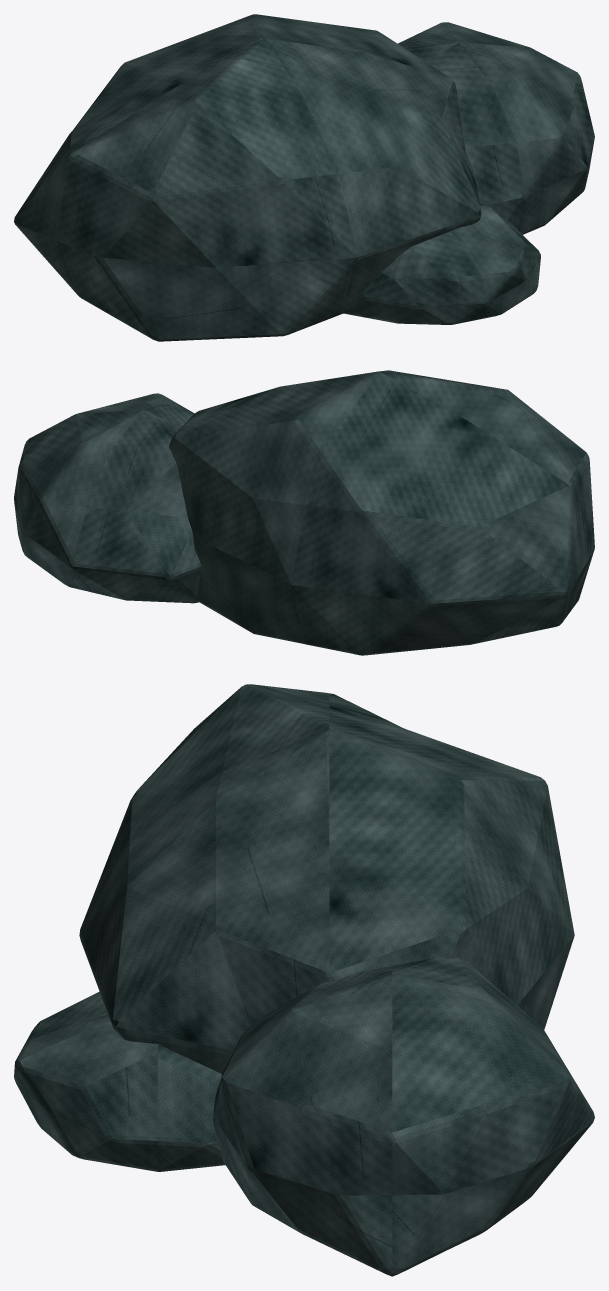
3 views of the same model, one above another, from view 1: azimuth 30°, elevation 25°; view 2: azimuth 150°, elevation 25°; view 3: azimuth 270°, elevation 25° (orthographic). The views are drawn at different scales.
Visible parts, largest first — view 1: Coast_rocks; view 2: Coast_rocks; view 3: Coast_rocks.
Part boxes in pixels (box(x1,y1,x2,y2)): Coast_rocks: box(14, 14, 594, 341); Coast_rocks: box(14, 370, 594, 655); Coast_rocks: box(14, 684, 594, 1276).
Size of the model in its own units: 3.53 by 1.4 by 2.31.
1 material, 1 textured.
